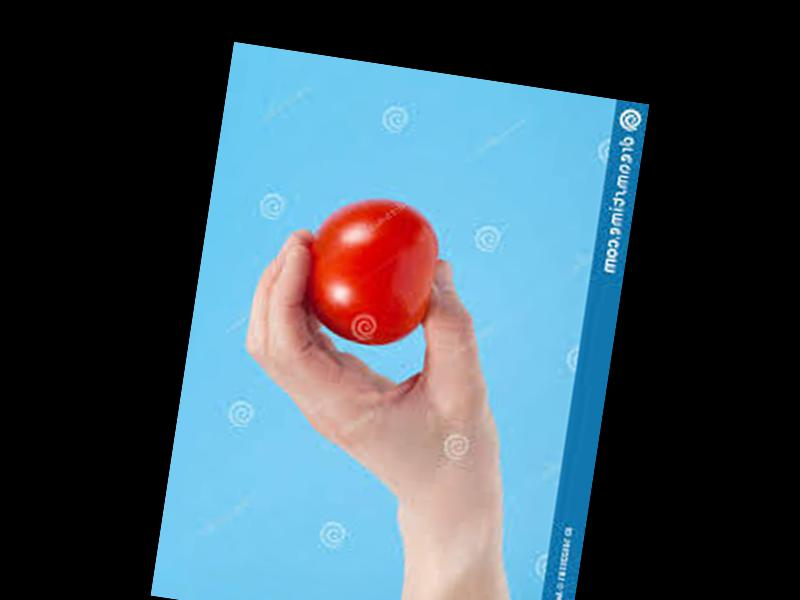Tomato: (295, 189, 444, 351)
